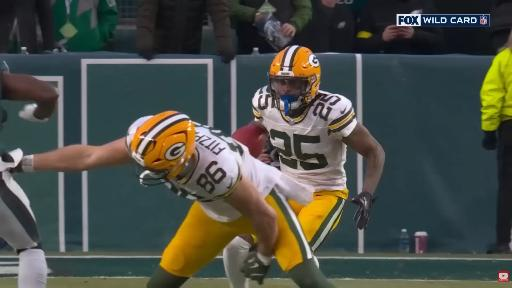Helmet: (129, 111, 195, 178), (269, 46, 320, 116)
Jersey: (162, 123, 313, 222), (253, 87, 357, 190), (0, 61, 9, 99)
Player: (17, 112, 333, 287), (250, 46, 384, 251), (0, 143, 47, 287)
